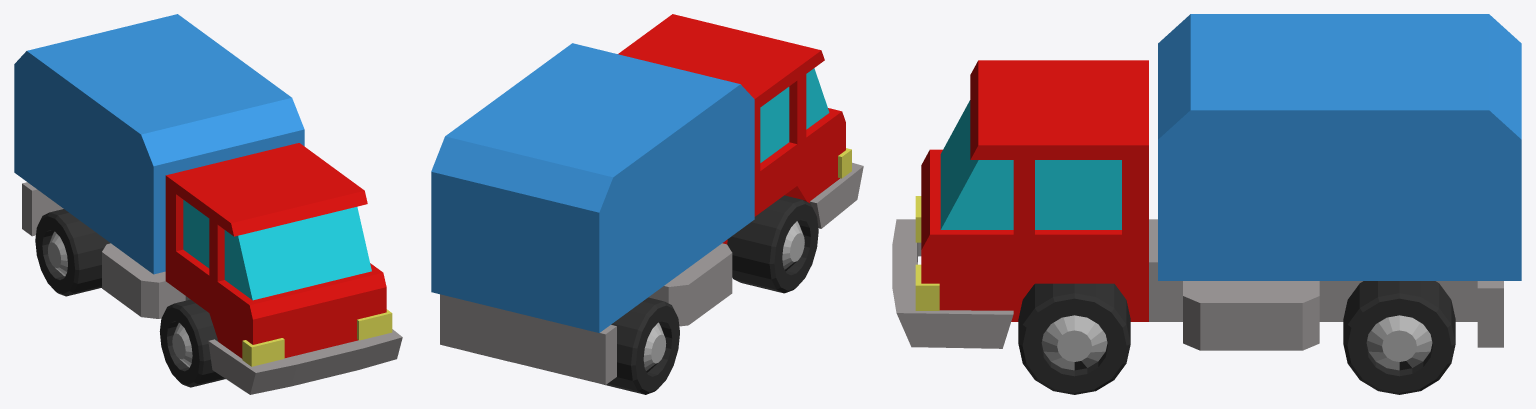
The model's file is truck.fbx.
3 renders of one model, left to right at view 1: azimuth 30°, elevation 25°; view 2: azimuth 150°, elevation 25°; view 3: azimuth 270°, elevation 25°, orthographic. The views are drawn at different scales.
Parts seen in each view (by area): view 1: Truck, BackWheel_R, FrontWheel_R; view 2: Truck, FrontWheel_R, BackWheel_R; view 3: Truck, BackWheel_L, FrontWheel_L.
Part boxes in pixels (x1=…): Truck: x1=14, y1=14, x2=402, y2=394; BackWheel_R: x1=35, y1=209, x2=110, y2=296; FrontWheel_R: x1=159, y1=299, x2=225, y2=387; Truck: x1=431, y1=14, x2=863, y2=384; FrontWheel_R: x1=727, y1=195, x2=818, y2=293; BackWheel_R: x1=605, y1=297, x2=679, y2=394; Truck: x1=892, y1=14, x2=1521, y2=350; BackWheel_L: x1=1343, y1=281, x2=1455, y2=394; FrontWheel_L: x1=1018, y1=283, x2=1130, y2=394.
Bounding box in the file's own units: 217 × 274 × 553.
